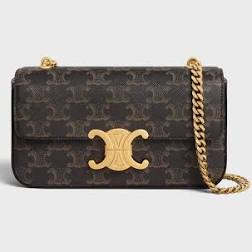Gucci: (8, 61, 246, 201), (82, 120, 155, 175)
